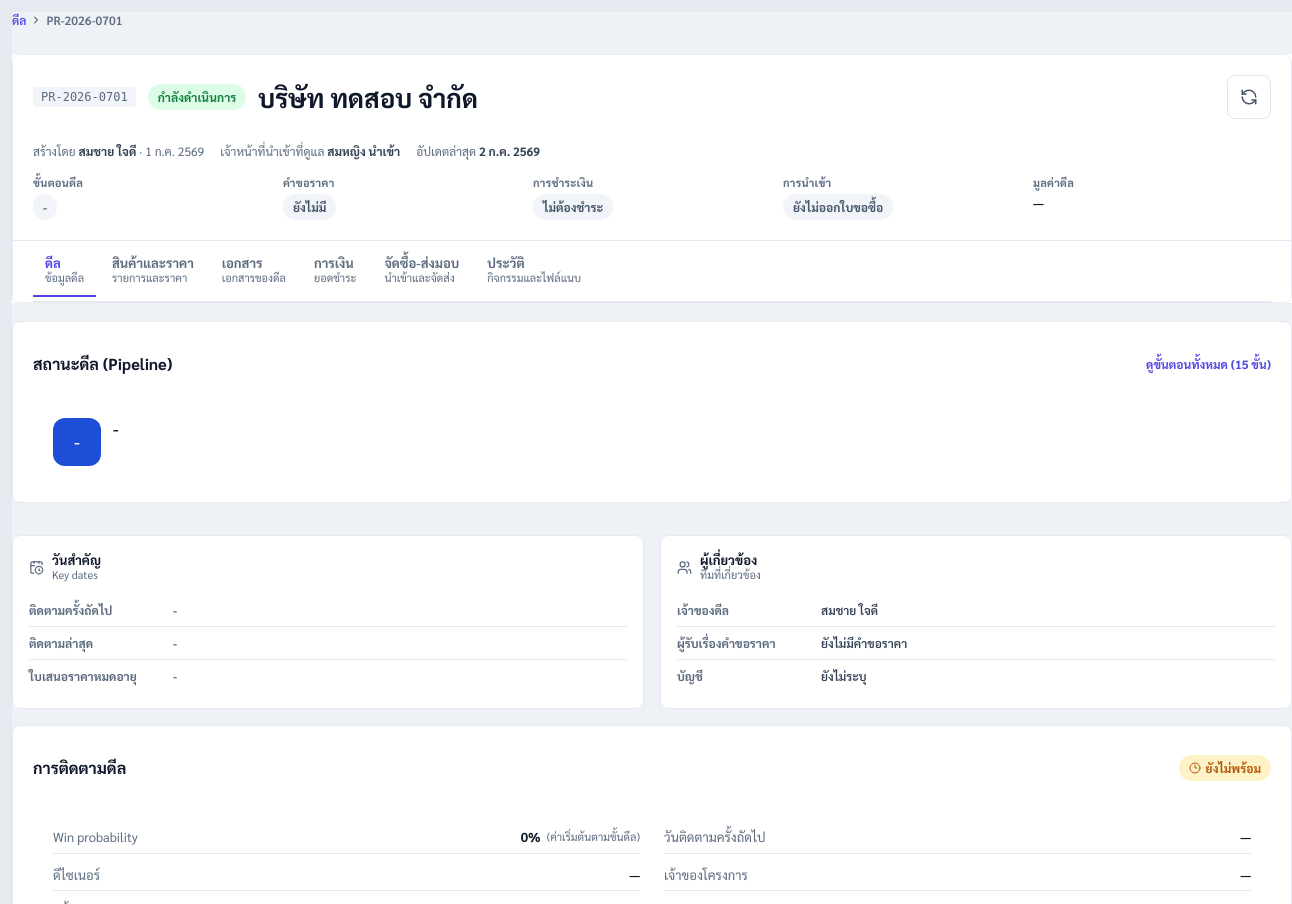
Test: TicketDetailPage › factory price in baht (ราคาตั้ง estimate removed) › never renders the ราคาตั้ง column
This screenshot has width=1292, height=904.
Click the tab "สินค้าและราคา รายการและราคา": {"x": 153, "y": 271} x1=100 y1=245 x2=206 y2=297
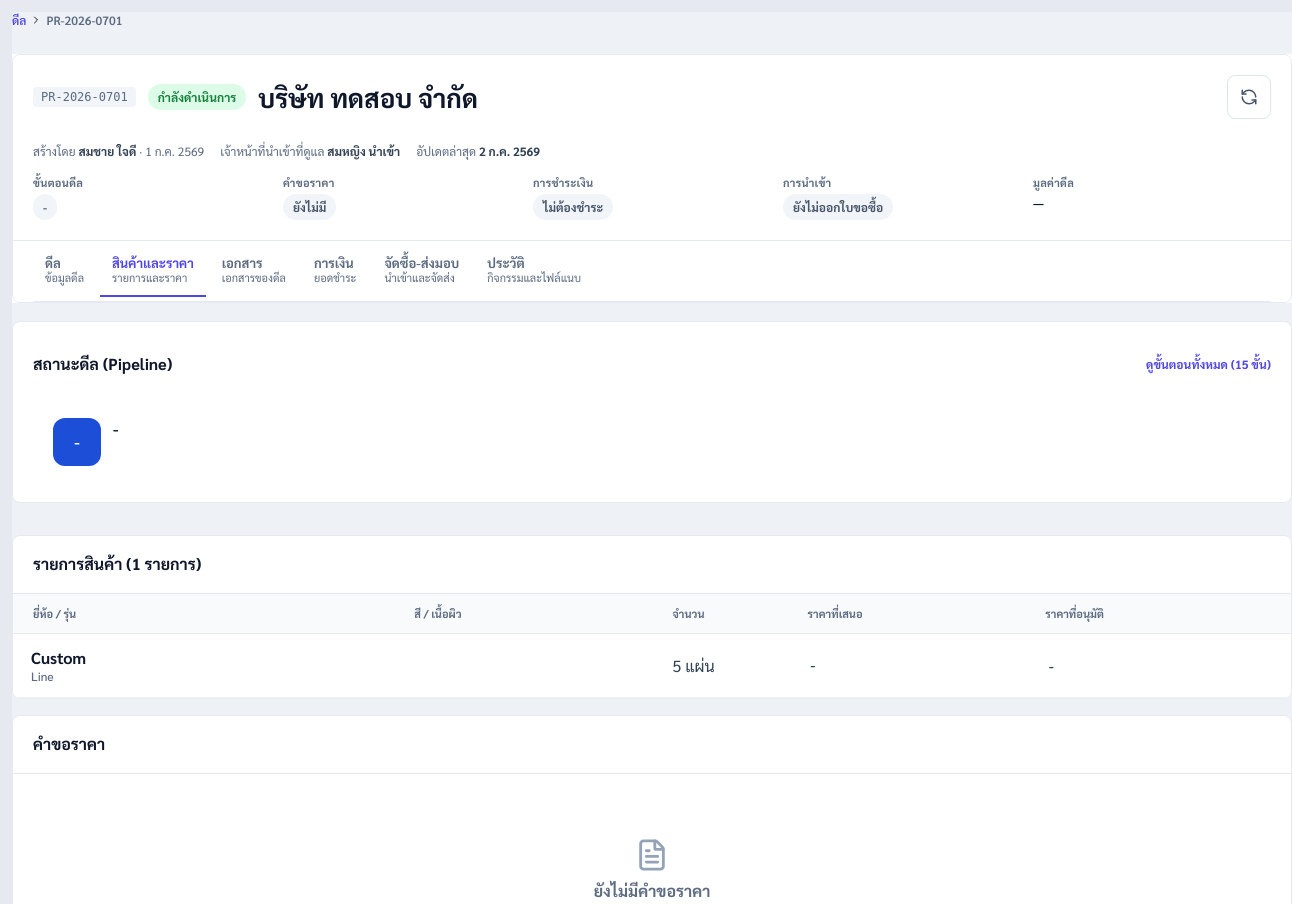
Check: the text "Custom" is shown, box x1=31 y1=647 x2=86 y2=668
